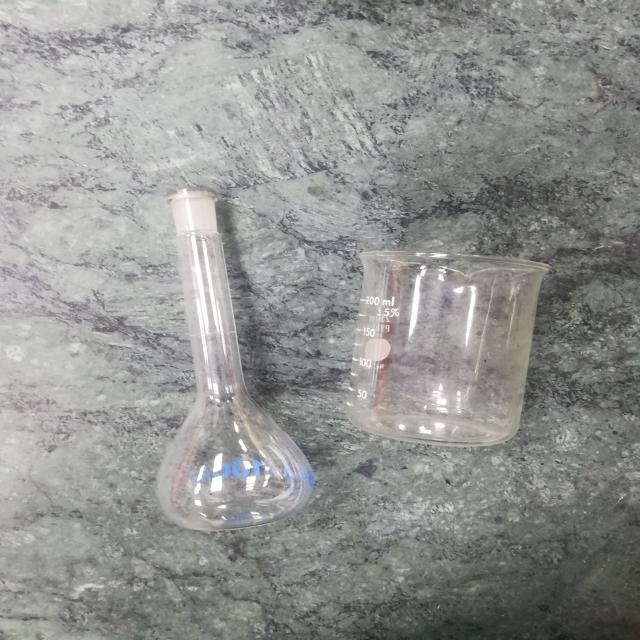Beaker: (349, 223, 547, 472)
Volumetric_Flask: (123, 163, 325, 548)
